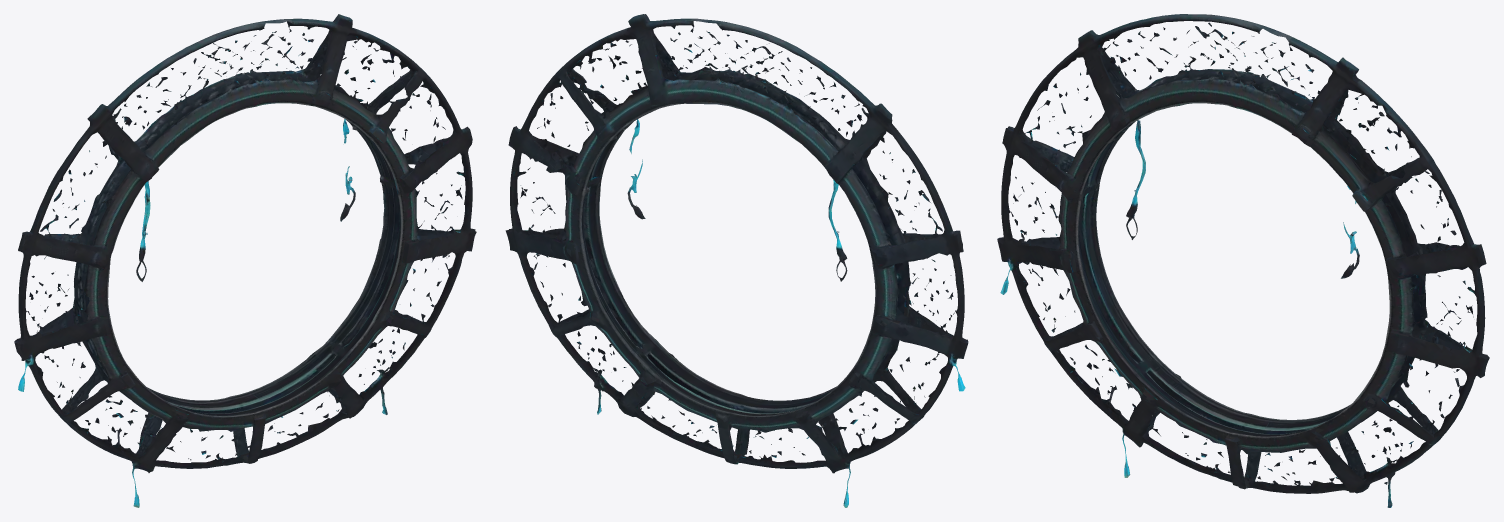
Rendered from fence.glb.
3 views of the same model, side by side, from view 1: azimuth 30°, elevation 25°; view 2: azimuth 150°, elevation 25°; view 3: azimuth 330°, elevation 25° (orthographic). The views are drawn at different scales.
Parts seen in each view (by area): view 1: Mesh0; view 2: Mesh0; view 3: Mesh0.
Part boxes in pixels (<box>): Mesh0: <box>14,14,476,507</box>; Mesh0: <box>505,14,968,507</box>; Mesh0: <box>997,14,1489,507</box>.
Size of the model in its own units: 1.91 by 1.8 by 0.226.
1 material, 1 textured.
